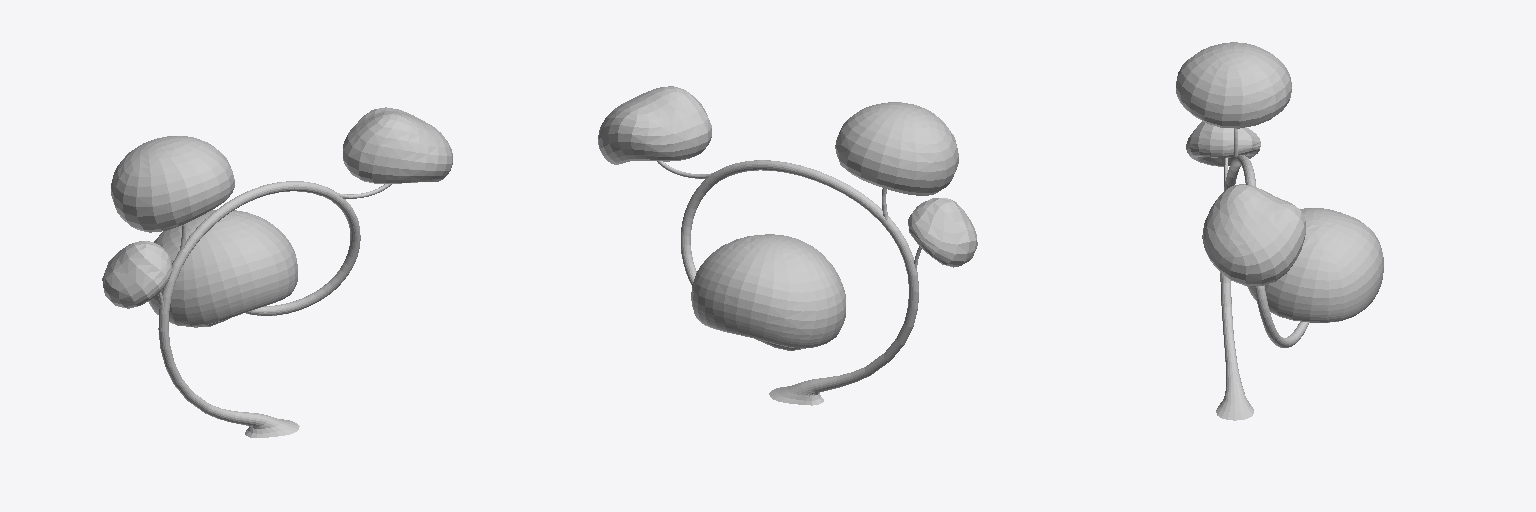
File: Curvy Tree 2.OBJ
3 renders of one model, left to right at view 1: azimuth 30°, elevation 25°; view 2: azimuth 150°, elevation 25°; view 3: azimuth 270°, elevation 25°, orthographic.
Parts seen in each view (by area): view 1: Group32246, Group32248; view 2: Group32246, Group32248; view 3: Group32246, Group32248.
Boxes of the visible parts, box(x1,y1,x2,y2) form: Group32246: box(102, 107, 452, 327); Group32248: box(158, 181, 391, 437); Group32246: box(598, 86, 977, 350); Group32248: box(657, 160, 921, 405); Group32246: box(1176, 42, 1383, 322); Group32248: box(1216, 128, 1308, 420).
Bounding box in the file's own units: 17.85 × 15 × 9.11.